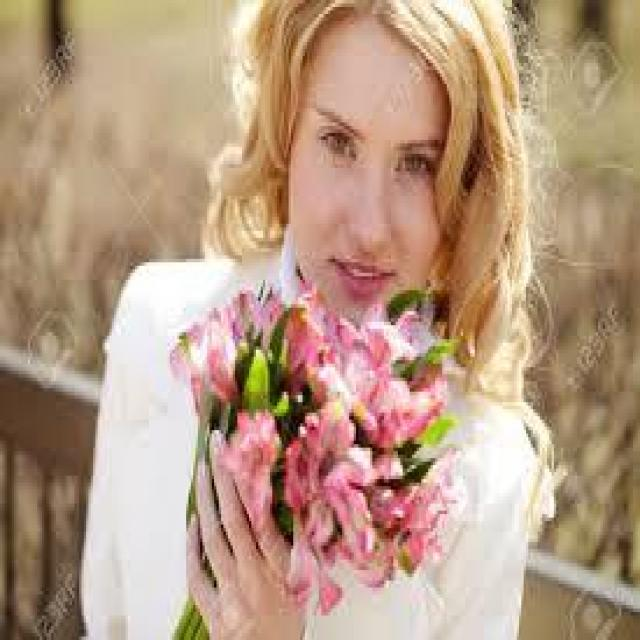organic waste: (310, 304, 424, 399), (168, 313, 249, 404), (329, 449, 383, 572), (232, 400, 282, 474)
